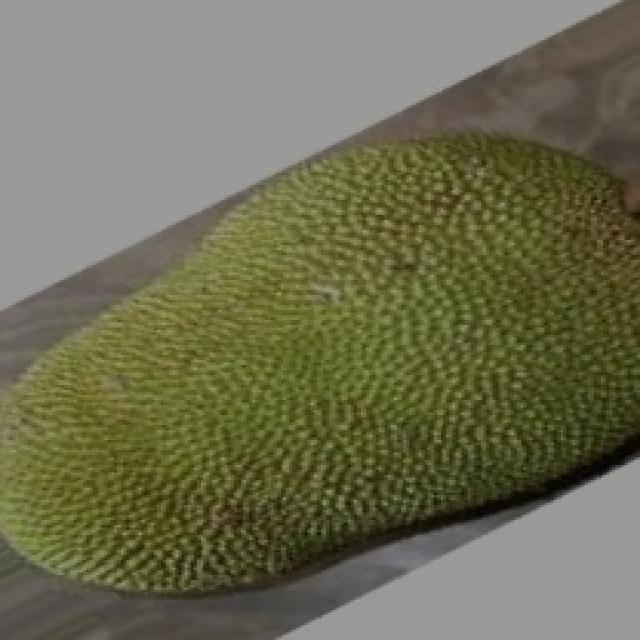Fruit: (0, 260, 400, 632), (215, 105, 640, 413)
